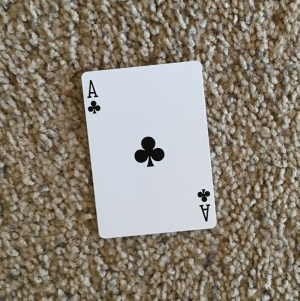card: (79, 61, 221, 240)
